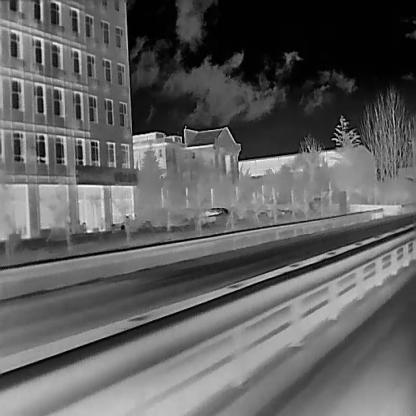car: (199, 206, 229, 224)
